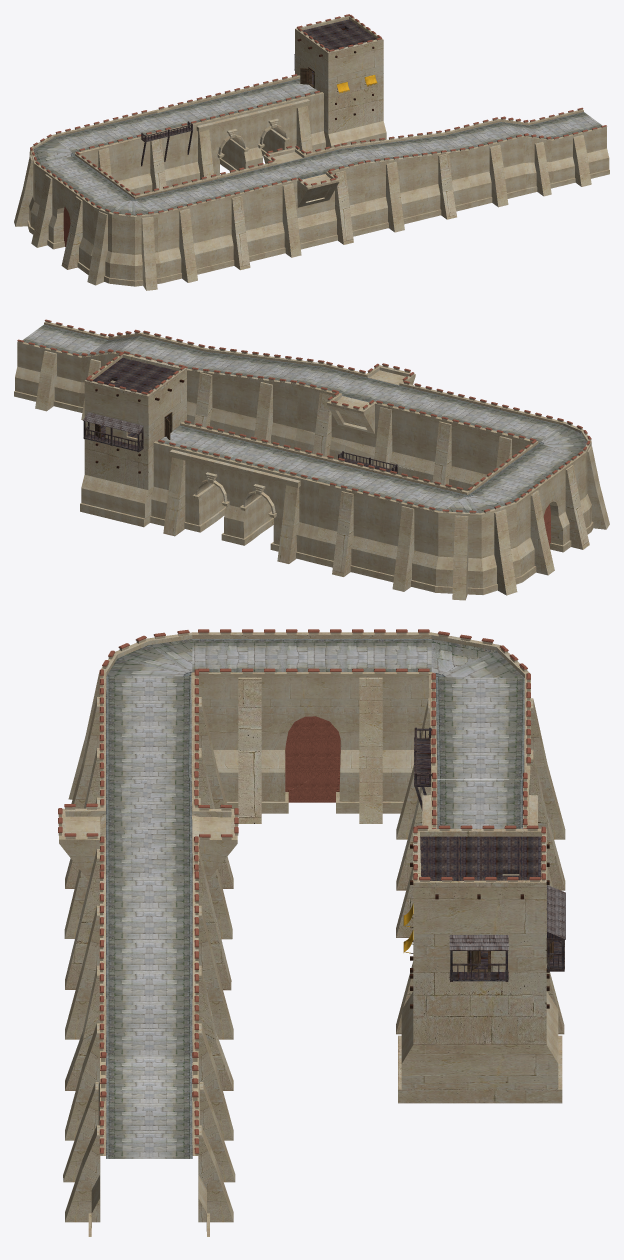
File: Benteng.fbx
3 renders of one model, top to bottom at view 1: azimuth 30°, elevation 25°; view 2: azimuth 150°, elevation 25°; view 3: azimuth 270°, elevation 25°, orthographic. The views are drawn at different scales.
Parts seen in each view (by area): view 1: Cube.003, prim33.004, prim55.004, prim55.006, prim55.001, prim55.010, prim34.001, prim55.007, prim55.005, prim57.001, prim55.008, prim74.002 (+12 smaller); view 2: Cube.003, prim55.010, prim33.004, prim55.001, prim55.006, prim55.004, prim34.001, prim57.001, prim55.005, prim74.006, prim55.009, prim74.005 (+12 smaller); view 3: prim55.001, prim57.001, prim33.004, prim55.006, prim34.001, prim55.010, prim55.004, prim55.005, prim55.007, prim55.008, Cube.003, Balcony2 (+13 smaller).
Part boxes in pixels (x1,y1,x2,y2): Cube.003: [156, 75, 325, 182]; prim33.004: [237, 146, 367, 258]; prim55.004: [135, 171, 264, 283]; prim55.006: [340, 132, 471, 232]; prim55.001: [29, 153, 136, 274]; prim55.010: [52, 110, 182, 194]; prim34.001: [295, 16, 383, 97]; prim55.007: [444, 119, 526, 207]; prim55.005: [528, 110, 609, 187]; prim57.001: [295, 71, 386, 147]; prim55.008: [500, 119, 554, 196]; prim74.002: [135, 199, 160, 290]; Cube.003: [150, 422, 346, 563]; prim55.010: [315, 462, 466, 592]; prim33.004: [295, 364, 444, 477]; prim55.001: [467, 441, 591, 582]; prim55.006: [185, 348, 325, 449]; prim55.004: [414, 393, 564, 490]; prim34.001: [84, 354, 186, 448]; prim57.001: [80, 417, 184, 527]; prim55.005: [14, 322, 108, 411]; prim74.006: [435, 495, 483, 594]; prim55.009: [452, 509, 517, 600]; prim74.005: [467, 491, 522, 594]; prim55.001: [192, 632, 431, 823]; prim57.001: [398, 951, 562, 1103]; prim33.004: [59, 773, 237, 990]; prim55.006: [65, 874, 233, 1090]; prim34.001: [413, 828, 546, 972]; prim55.010: [396, 674, 565, 890]; prim55.004: [65, 672, 233, 888]; prim55.005: [65, 1102, 233, 1236]; prim55.007: [65, 999, 233, 1140]; prim55.008: [63, 1053, 235, 1182]; Cube.003: [396, 775, 564, 1034]; Balcony2: [449, 935, 508, 981].
Bounding box in the file's own units: 13663 × 2927 × 5949.
